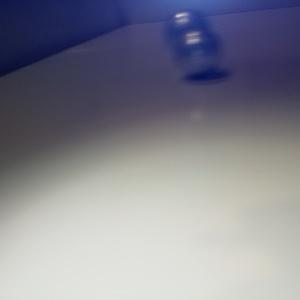alive_ball: (171, 30, 219, 77), (163, 9, 208, 53)
